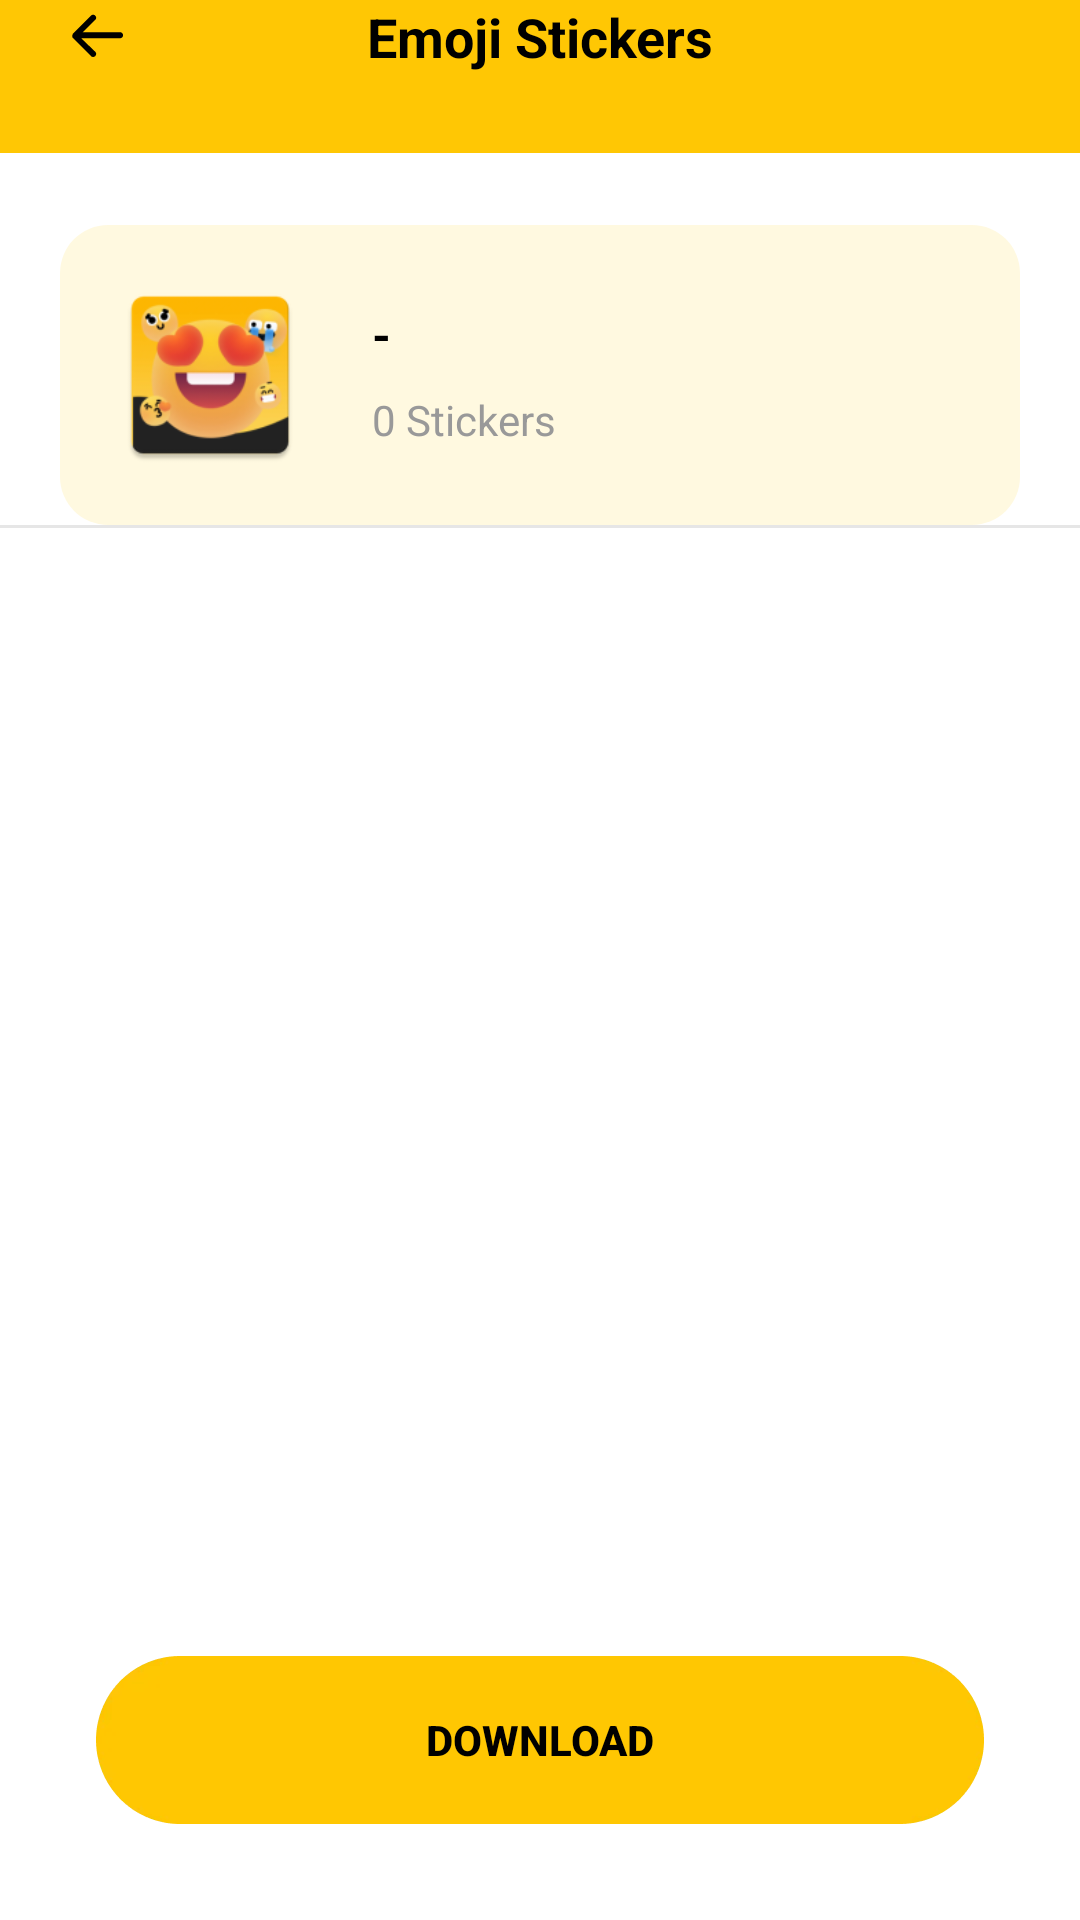

Point at icon controls on the screen. Image size 1080px x 1920px, points as [x,y].
back: [97,35]
